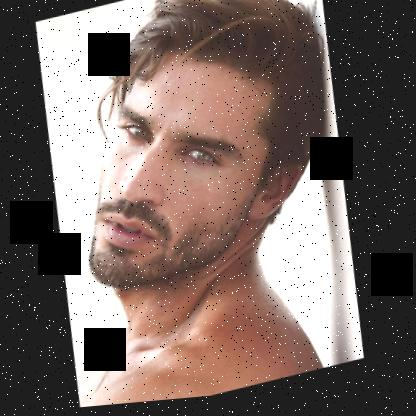Male: (60, 23, 325, 301)
